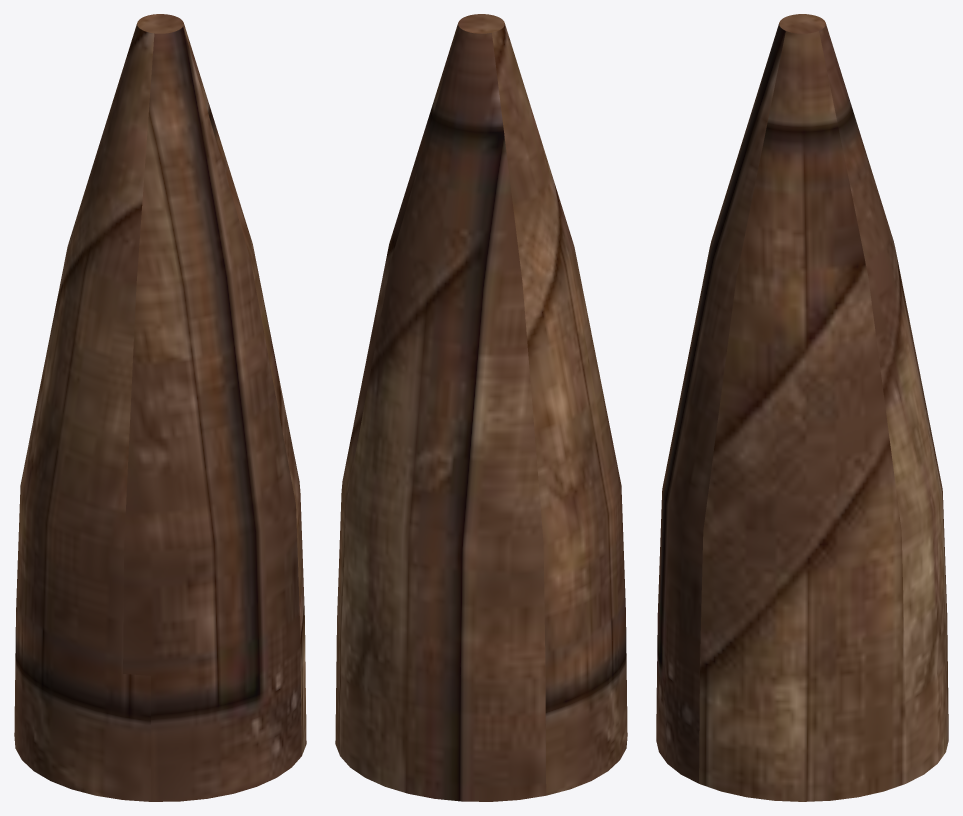
Rendered from bullet.obj.
3 renders of one model, left to right at view 1: azimuth 30°, elevation 25°; view 2: azimuth 150°, elevation 25°; view 3: azimuth 270°, elevation 25°, orthographic.
Parts seen in each view (by area): view 1: Cylinder.003; view 2: Cylinder.003; view 3: Cylinder.003.
Boxes of the visible parts, left/top/right/bottom form: Cylinder.003: left=14, top=14, right=306, bottom=801; Cylinder.003: left=335, top=14, right=627, bottom=801; Cylinder.003: left=656, top=14, right=948, bottom=801.
Bounding box in the file's own units: 0.7675 × 2.07 × 0.7675.
